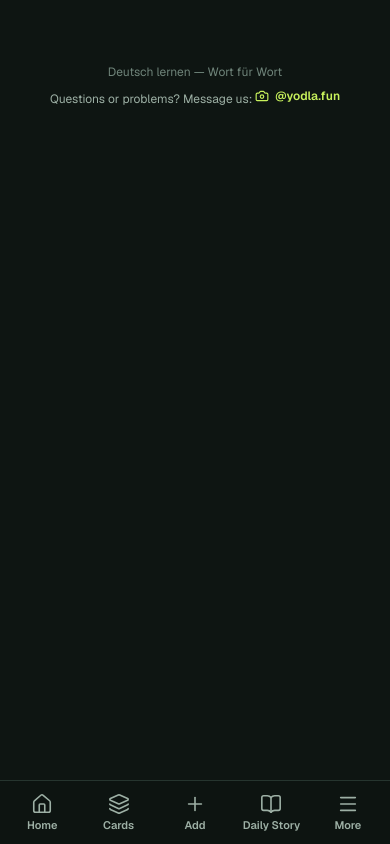
Scenario: contact links › the phone "More" sheet ends with "Contact us" → Instagram
Click the button "More".
click(348, 812)  # box [310,781,386,843]
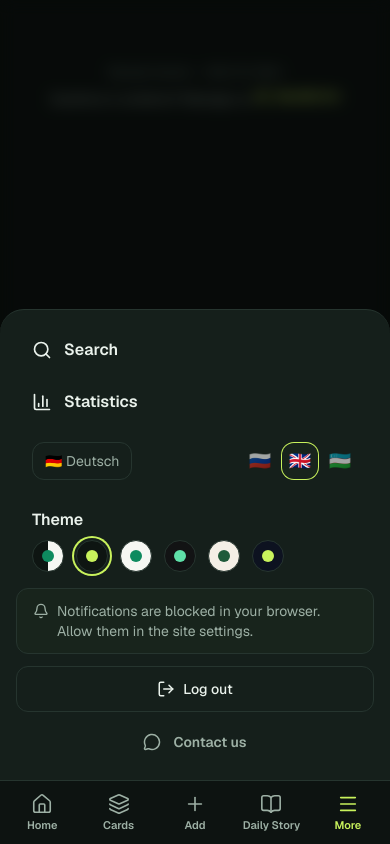
Now the link "Contact us" is shown, box [144,733,247,751]
